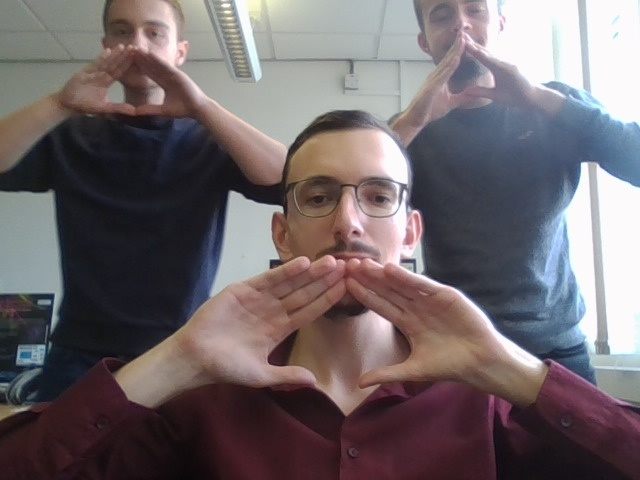thankyou: (176, 256, 497, 386), (408, 30, 529, 126), (57, 44, 201, 117)
